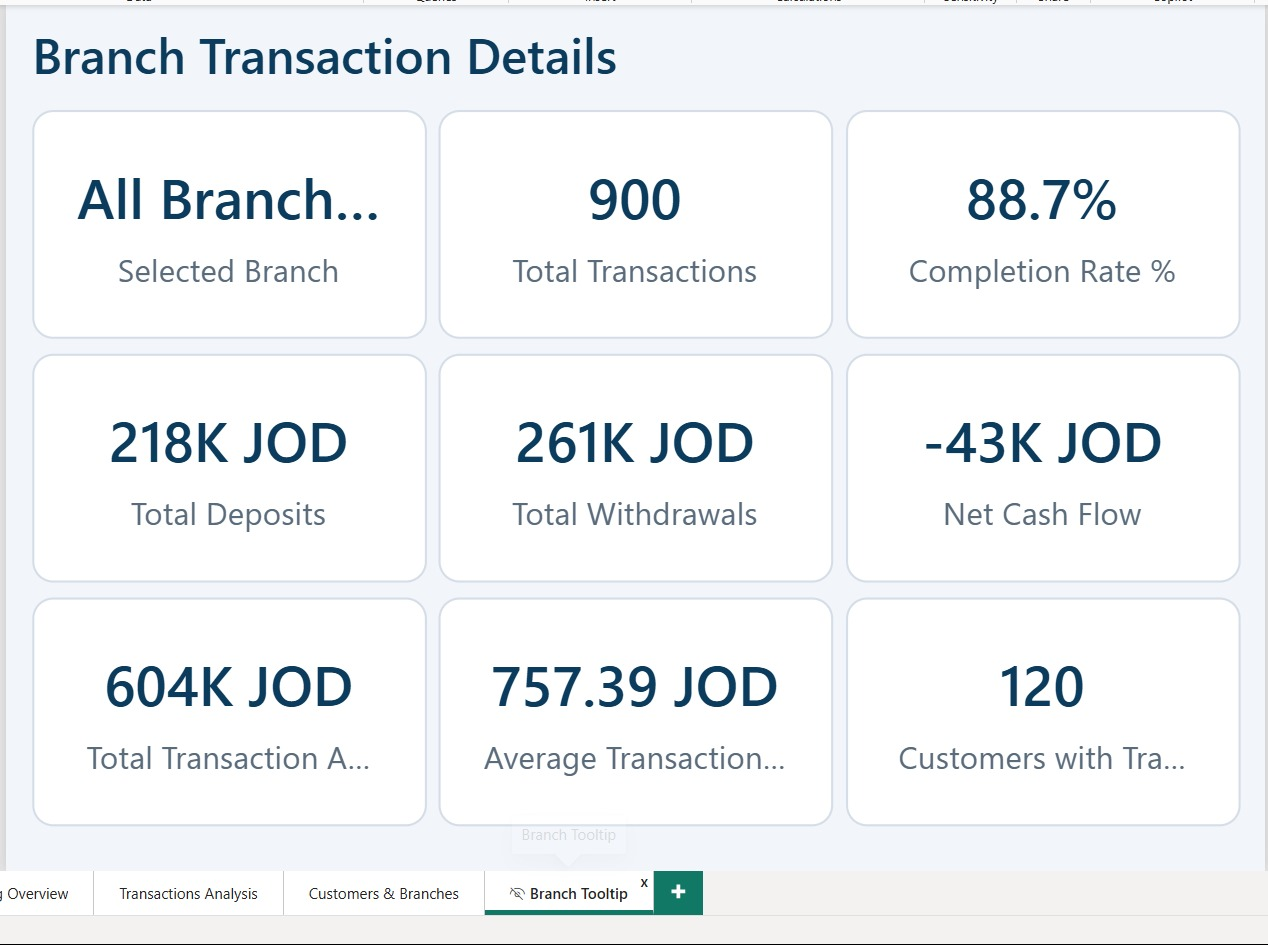

This screenshot's page, from the dashboard's own definition file:
{"tool":"powerbi","page":{"name":"Branch Tooltip","canvas":[480,330],"ordinal":3},"visuals":[{"type":"textbox","box":[10,6,460,30],"z":0},{"type":"card","fields":{"Values":["Transactions.Selected Branch"]},"box":[10,40,150,87],"z":1},{"type":"card","fields":{"Values":["Transactions.Total Transactions"]},"box":[165,40,150,87],"z":2},{"type":"card","fields":{"Values":["Transactions.Completion Rate %"]},"box":[320,40,150,87],"z":3},{"type":"card","fields":{"Values":["Transactions.Total Deposits"]},"box":[10,133,150,87],"z":4},{"type":"card","fields":{"Values":["Transactions.Total Withdrawals"]},"box":[165,133,150,87],"z":5},{"type":"card","fields":{"Values":["Transactions.Net Cash Flow"]},"box":[320,133,150,87],"z":6},{"type":"card","fields":{"Values":["Transactions.Total Transaction Amount"]},"box":[10,226,150,87],"z":7},{"type":"card","fields":{"Values":["Transactions.Average Transaction Amount"]},"box":[165,226,150,87],"z":8},{"type":"card","fields":{"Values":["Transactions.Customers with Transactions"]},"box":[320,226,150,87],"z":9}]}

Visuals, with their boxes on the page's 480x330 design canvas (x1, y1, x2, y2). These are canvas units, not pixel positions in the 1268x945 screenshot, which may show the page scaled, cropped or inside an application window:
textbox: x1=10 y1=6 x2=470 y2=36
card - Transactions.Selected Branch: x1=10 y1=40 x2=160 y2=127
card - Transactions.Total Transactions: x1=165 y1=40 x2=315 y2=127
card - Transactions.Completion Rate %: x1=320 y1=40 x2=470 y2=127
card - Transactions.Total Deposits: x1=10 y1=133 x2=160 y2=220
card - Transactions.Total Withdrawals: x1=165 y1=133 x2=315 y2=220
card - Transactions.Net Cash Flow: x1=320 y1=133 x2=470 y2=220
card - Transactions.Total Transaction Amount: x1=10 y1=226 x2=160 y2=313
card - Transactions.Average Transaction Amount: x1=165 y1=226 x2=315 y2=313
card - Transactions.Customers with Transactions: x1=320 y1=226 x2=470 y2=313
